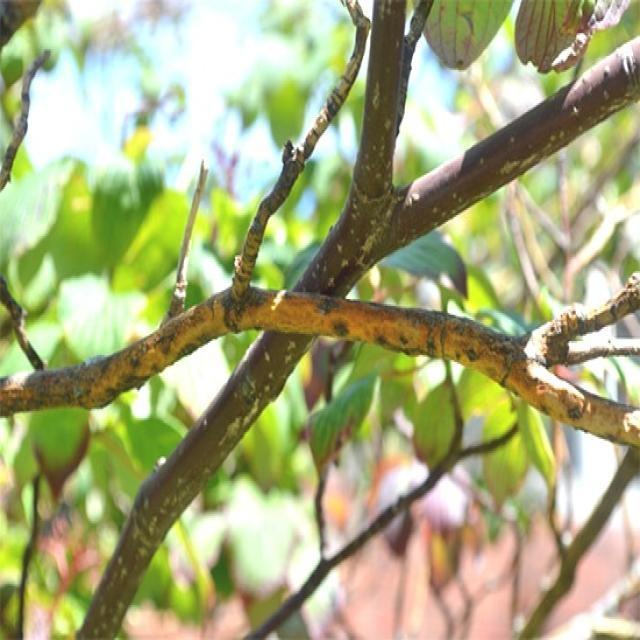Golden_canker: (1, 52, 640, 540)
